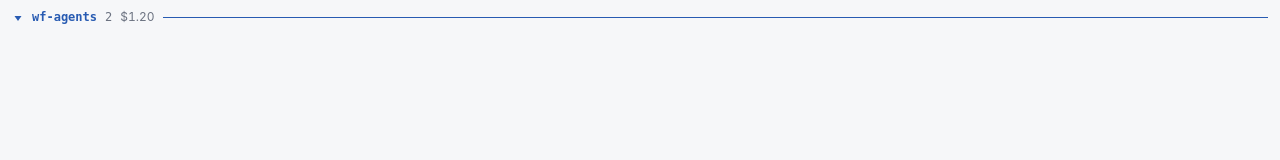
a project's group in a list grouped by project › folds its rows away at a press on its head and opens them again at the next, saying what a press does
This screenshot has width=1280, height=160.
Click the button "wf-agents 2 $1.20".
click(65, 17)  # box [8,4,1272,30]
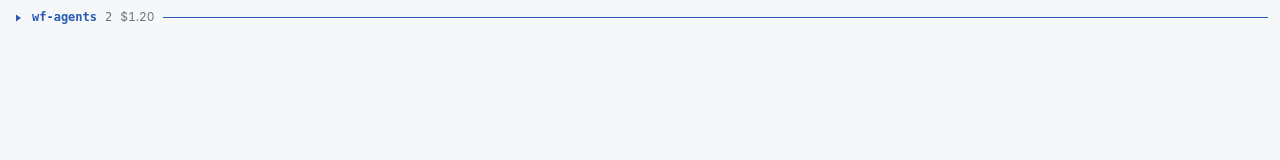
Expected: the button "wf-agents 2 $1.20" is collapsed
Click the button "wf-agents 2 $1.20".
click(65, 17)  # box [8,4,1272,30]
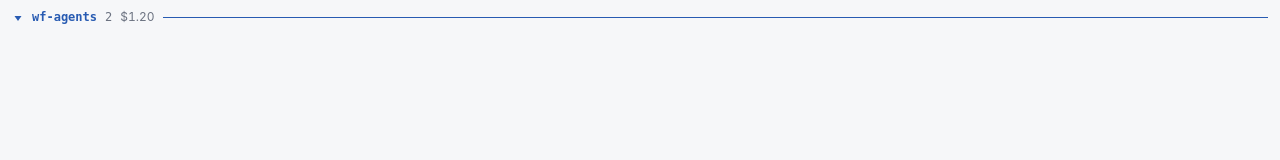
Expected: the icon with class "fold-mark" has class "fold-open", [12,12,24,24]
